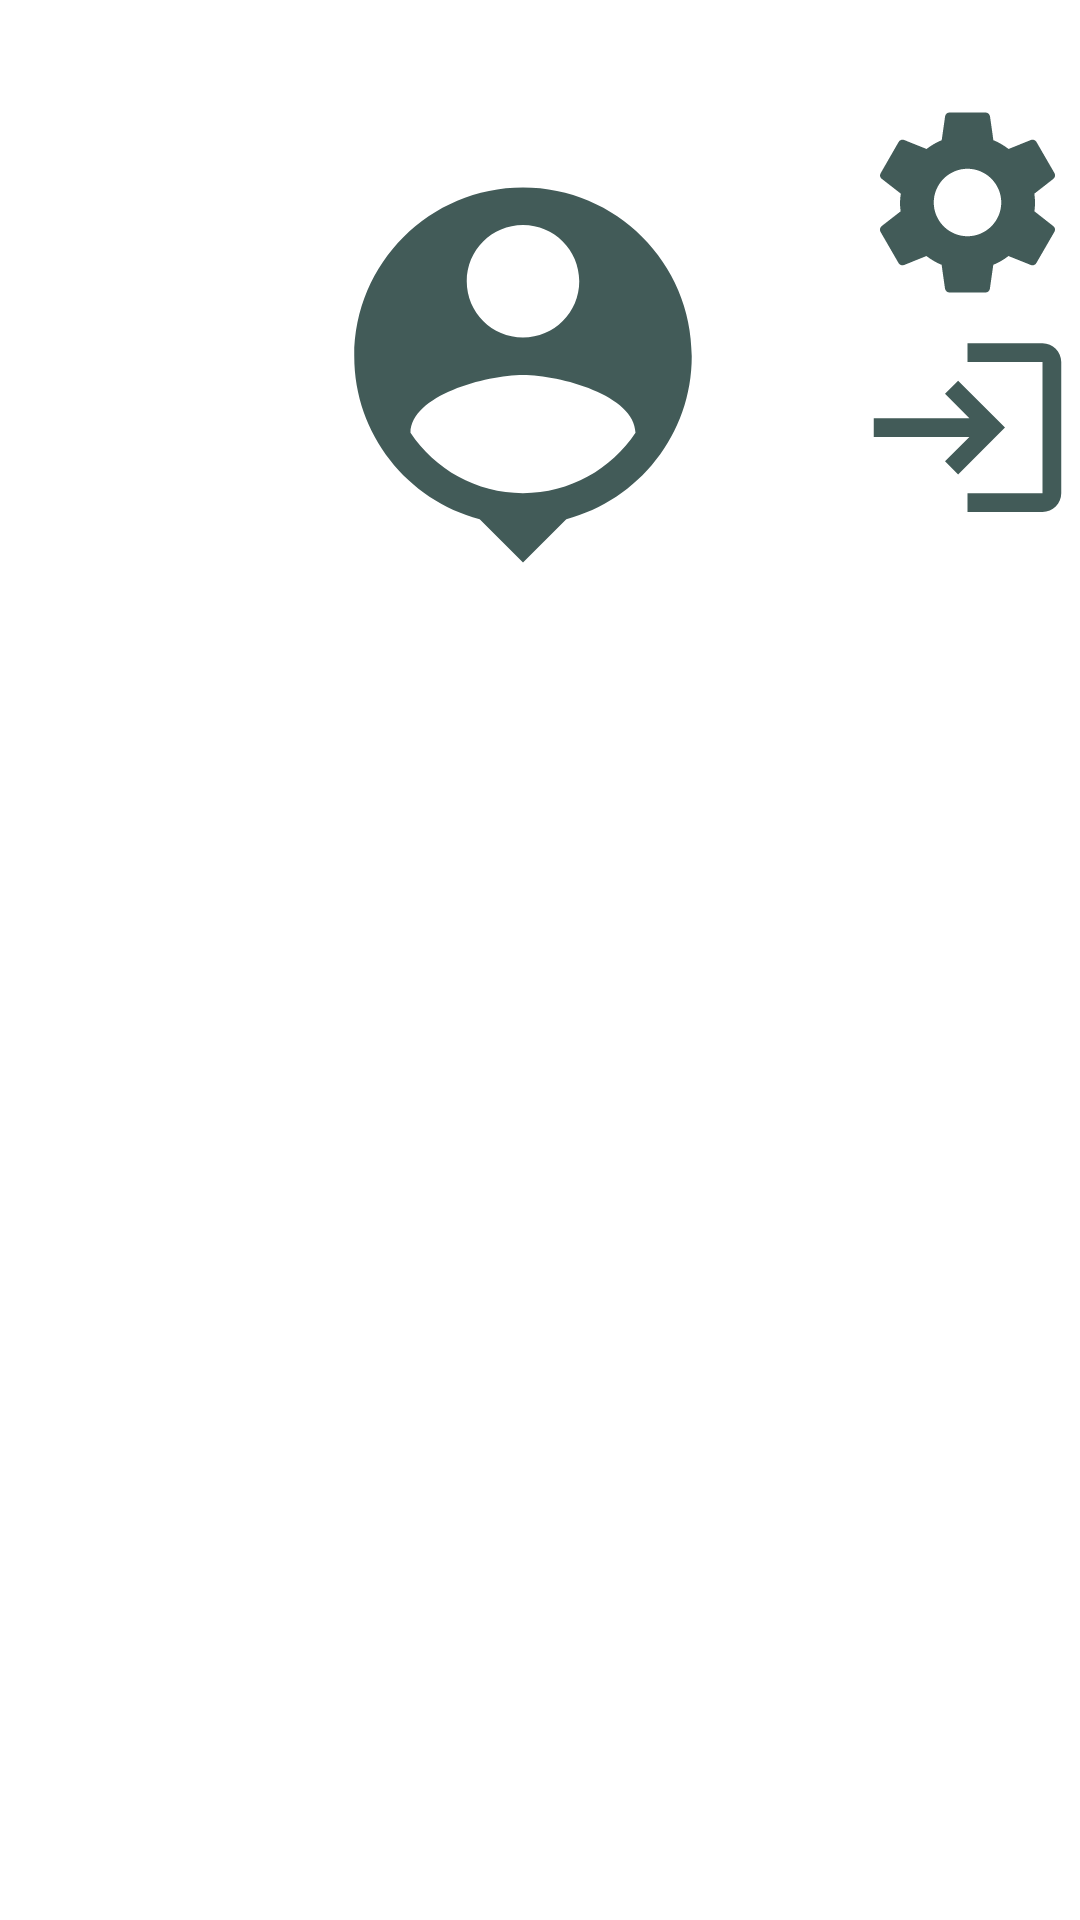

Point at icon controls on the screen. Image size 1080×1920, points as (x,y).
login: (967,427)
settings: (967,202)
